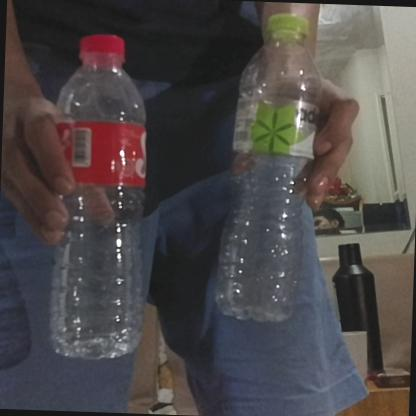plastic_bottles: (44, 35, 151, 366), (220, 6, 319, 320)
